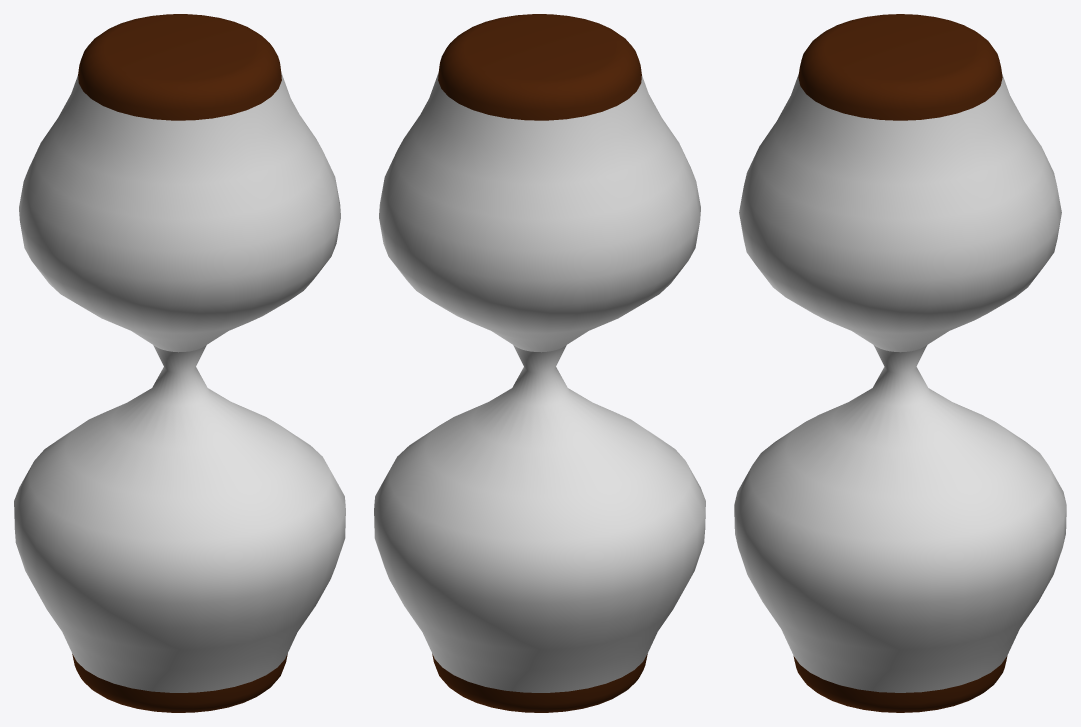
File: HOURWATCH_PEICES.fbx
3 renders of one model, left to right at view 1: azimuth 30°, elevation 25°; view 2: azimuth 150°, elevation 25°; view 3: azimuth 270°, elevation 25°, orthographic.
Visible parts, largest first — view 1: Cylinder, Cylinder.001; view 2: Cylinder, Cylinder.001; view 3: Cylinder, Cylinder.001.
Part boxes in pixels (bbox=[...]): Cylinder: bbox=[14, 345, 345, 712]; Cylinder.001: bbox=[19, 14, 340, 352]; Cylinder: bbox=[374, 345, 705, 712]; Cylinder.001: bbox=[379, 14, 700, 352]; Cylinder: bbox=[734, 345, 1066, 712]; Cylinder.001: bbox=[739, 14, 1061, 352].
Bounding box in the file's own units: 102 × 211 × 102.
